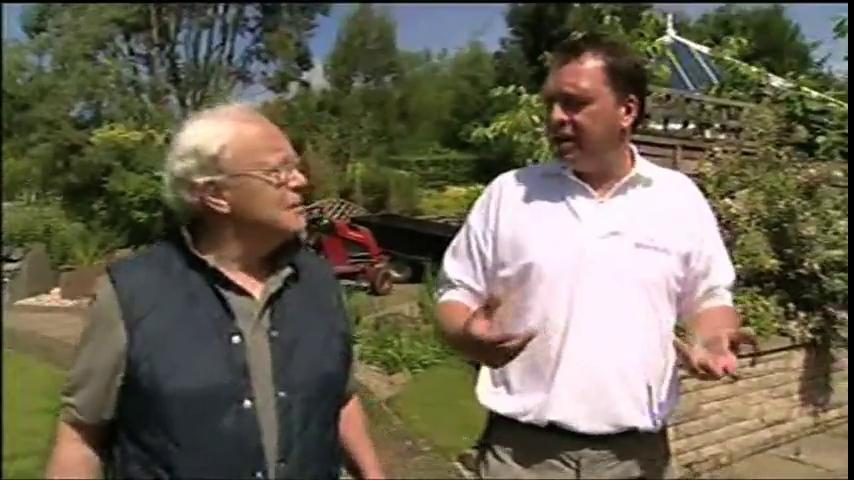victim: (432, 29, 752, 480), (50, 102, 394, 480)
